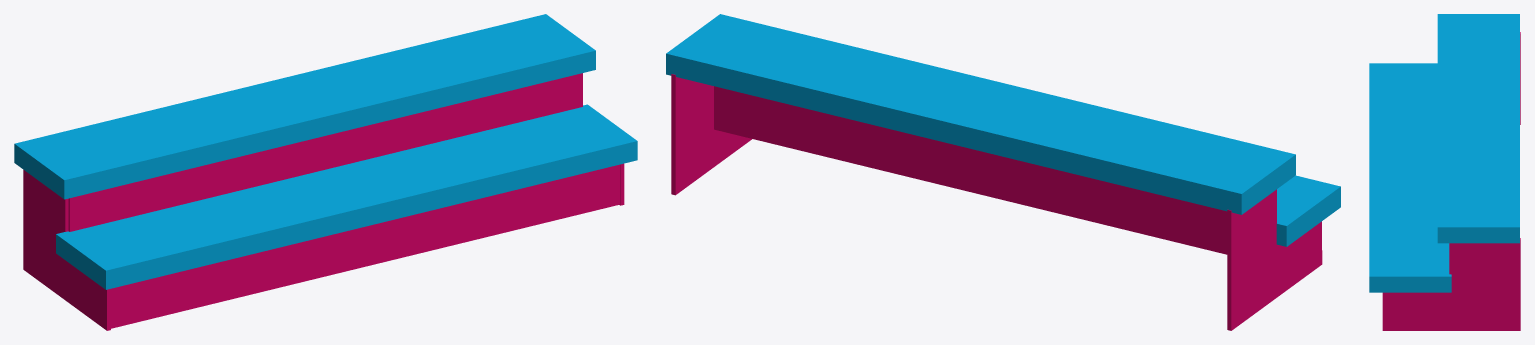
The model's file is Wood_Stairs_02.fbx.
3 views of the same model, side by side, from view 1: azimuth 30°, elevation 25°; view 2: azimuth 150°, elevation 25°; view 3: azimuth 270°, elevation 25° (orthographic). The views are drawn at different scales.
Visible parts, largest first — view 1: Wood_Stairs_02; view 2: Wood_Stairs_02; view 3: Wood_Stairs_02.
Part boxes in pixels (x1,y1,x2,y2): Wood_Stairs_02: [14, 14, 637, 330]; Wood_Stairs_02: [666, 14, 1340, 330]; Wood_Stairs_02: [1369, 14, 1520, 330].
Size of the model in its own units: 179 by 41.23 by 53.44.
